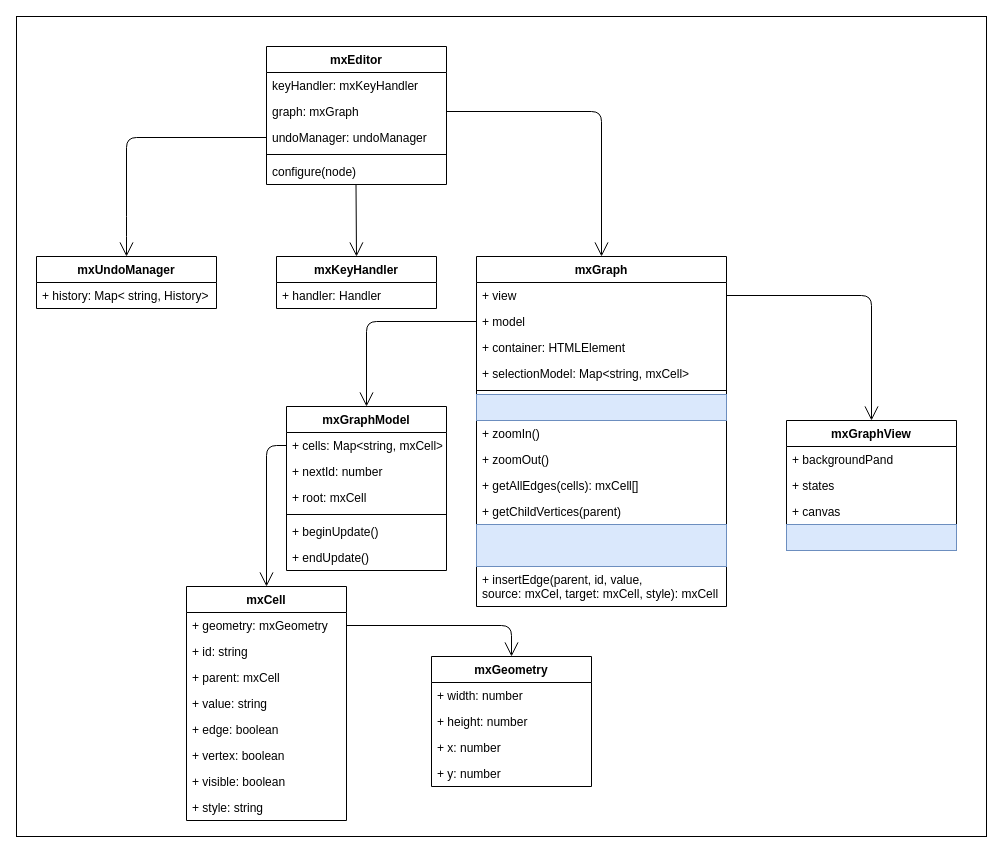
The diagram is 1003 pixels wide and 853 high, and some of its shapes have lost their labels. Here are the shapes that lost their labels. From the top down, the centre of each, then its label:
[601,407]: + refresh()
[601,545]: + insertVertex(parent, id, value, x, y, width, height, style, relative): mxCell
[871,537]: + drawPane: HTMLElement[]
